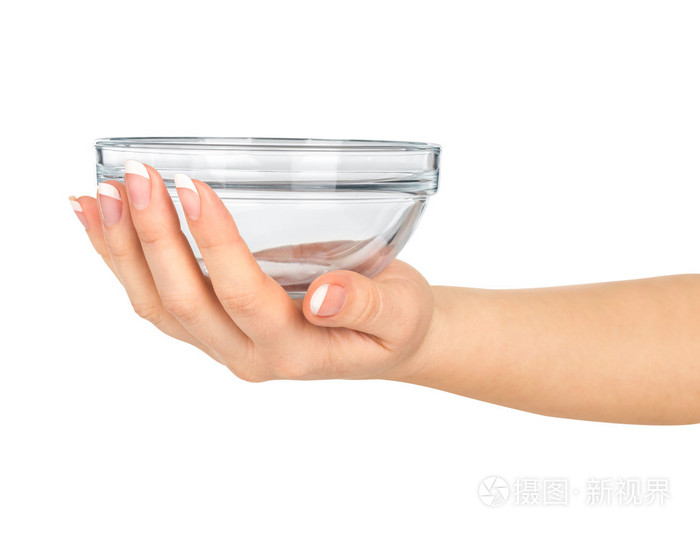no-phone: (67, 131, 476, 393)
